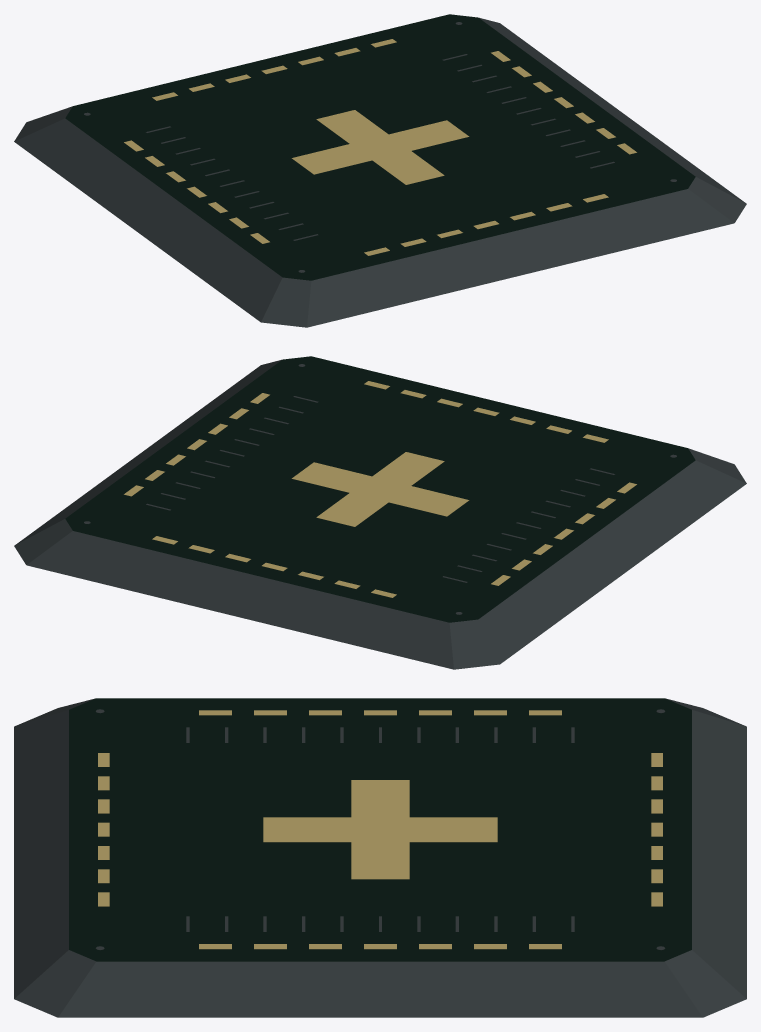
Rendered from SM_TruckPad_A.fbx.
3 views of the same model, one above another, from view 1: azimuth 30°, elevation 25°; view 2: azimuth 150°, elevation 25°; view 3: azimuth 270°, elevation 25° (orthographic). The views are drawn at different scales.
Visible parts, largest first — view 1: SM_TruckPad_A; view 2: SM_TruckPad_A; view 3: SM_TruckPad_A.
Part boxes in pixels (left/top/right/bottom): SM_TruckPad_A: left=14, top=14, right=746, bottom=327; SM_TruckPad_A: left=14, top=356, right=746, bottom=669; SM_TruckPad_A: left=14, top=698, right=746, bottom=1017.
Size of what is drawn, in the model's own units: 400 by 400 by 20.
